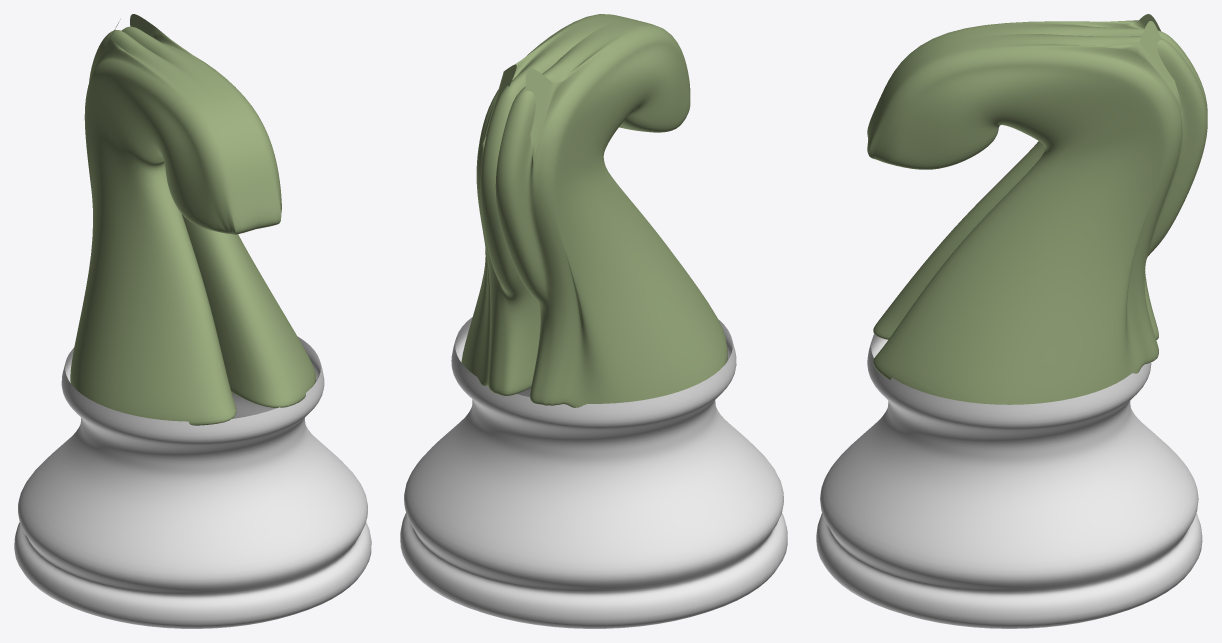
The model's file is knight3.gltf.
3 views of the same model, side by side, from view 1: azimuth 30°, elevation 25°; view 2: azimuth 150°, elevation 25°; view 3: azimuth 270°, elevation 25° (orthographic). The views are drawn at different scales.
Visible parts, largest first — view 1: Plane, Vert.023; view 2: Vert.023, Plane; view 3: Plane, Vert.023.
Part boxes in pixels (x1,y1,x2,y2): Plane: [70, 14, 316, 425]; Vert.023: [14, 336, 371, 628]; Vert.023: [400, 317, 787, 628]; Plane: [461, 14, 727, 407]; Plane: [867, 14, 1207, 404]; Vert.023: [816, 334, 1202, 628].
Bounding box in the file's own units: 11.9 × 18.5 × 12.07.
